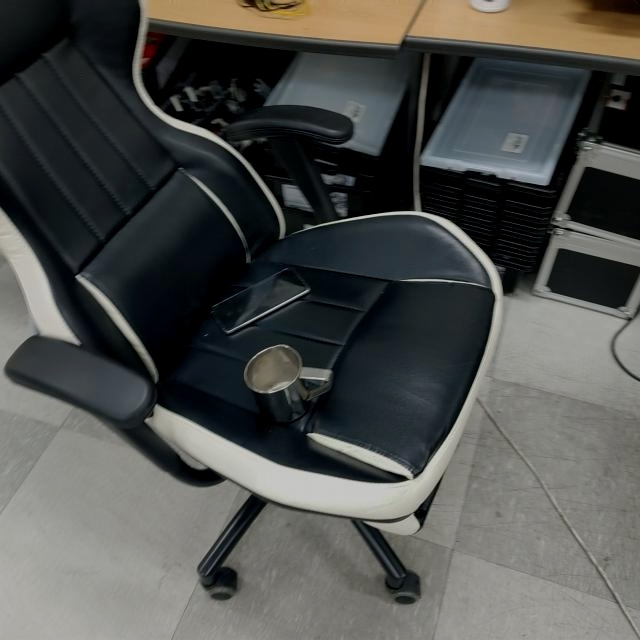cup: (242, 341, 332, 423)
phone: (209, 262, 312, 334)
